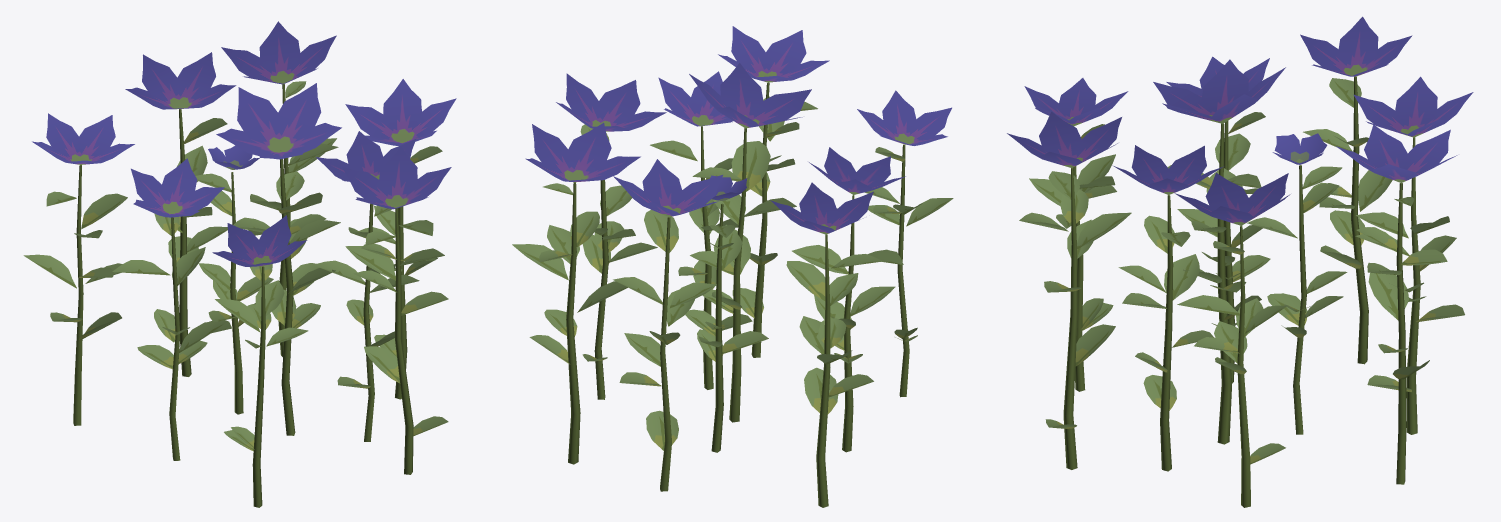
File: SM_Env_Flower_02.fbx
3 views of the same model, side by side, from view 1: azimuth 30°, elevation 25°; view 2: azimuth 150°, elevation 25°; view 3: azimuth 270°, elevation 25° (orthographic). The views are drawn at different scales.
Parts seen in each view (by area): view 1: SM_Env_Flower_02_LOD0; view 2: SM_Env_Flower_02_LOD0; view 3: SM_Env_Flower_02_LOD0.
Boxes of the visible parts, left/top/right/bottom form: SM_Env_Flower_02_LOD0: left=23, top=21, right=456, bottom=507; SM_Env_Flower_02_LOD0: left=512, top=26, right=953, bottom=507; SM_Env_Flower_02_LOD0: left=1007, top=16, right=1473, bottom=507.
Size of what is drawn, in the model's own units: 58.77 by 50.8 by 59.54.
